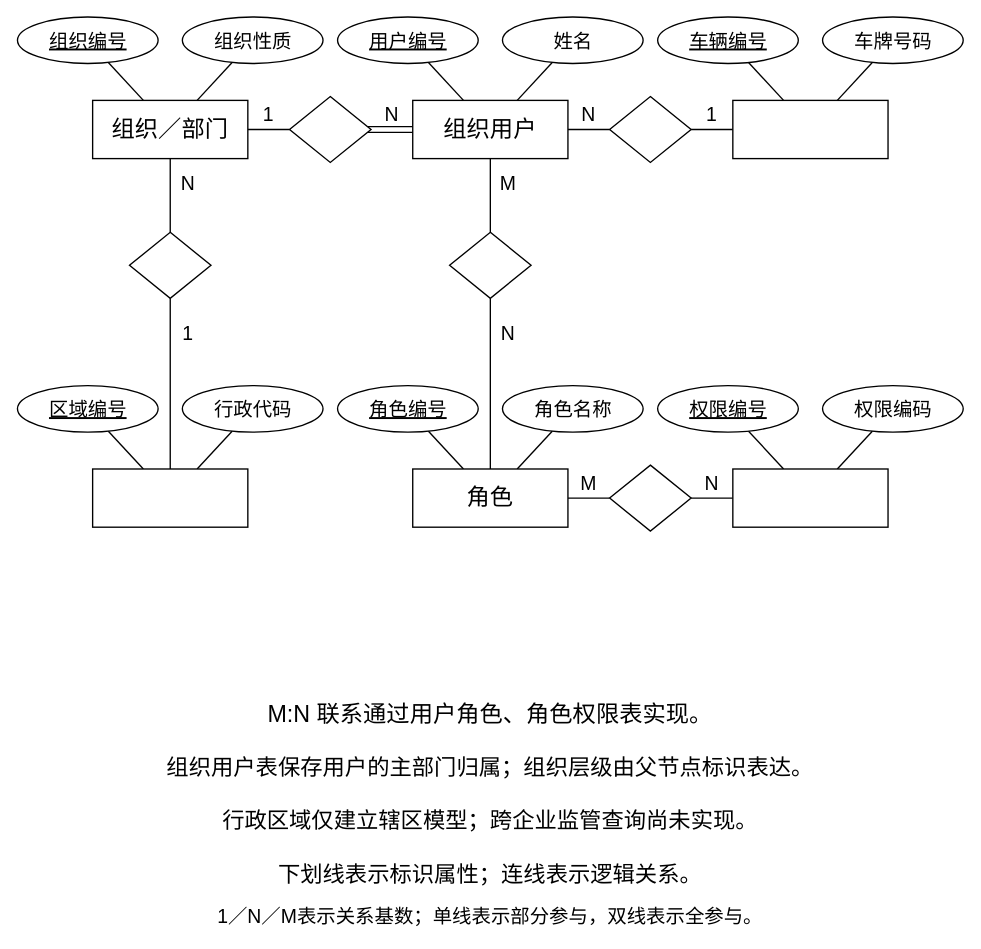
Some shapes in this 981 by 949 pixel diagram are drawn without their labels. The shapes that lost their labels are listed below. From the top down, each one's centre as x and y in pixels, then its label:
At point 329,129: "归属".
At point 649,129: "绑定".
At point 810,129: "车辆".
At point 169,264: "辖区".
At point 489,264: "授予".
At point 169,497: "行政区域".
At point 649,497: "授权".
At point 810,497: "权限".
